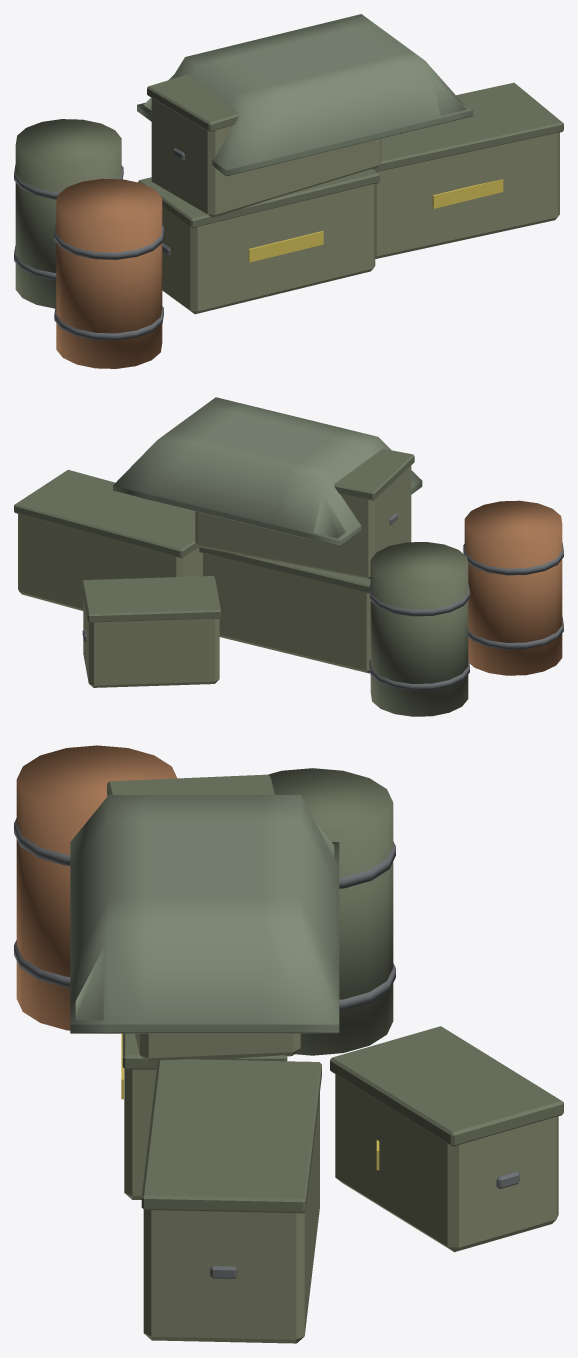
The model's file is v_mil_crates.glb.
3 views of the same model, one above another, from view 1: azimuth 30°, elevation 25°; view 2: azimuth 150°, elevation 25°; view 3: azimuth 270°, elevation 25° (orthographic). The views are drawn at different scales.
Visible parts, largest first — view 1: Mil_crates; view 2: Mil_crates; view 3: Mil_crates.
Part boxes in pixels (x1,y1,x2,y2): Mil_crates: (14, 14, 563, 368); Mil_crates: (14, 397, 563, 716); Mil_crates: (14, 745, 563, 1343).
Size of what is drawn, in the model's own units: 3.39 by 1.27 by 2.05.
